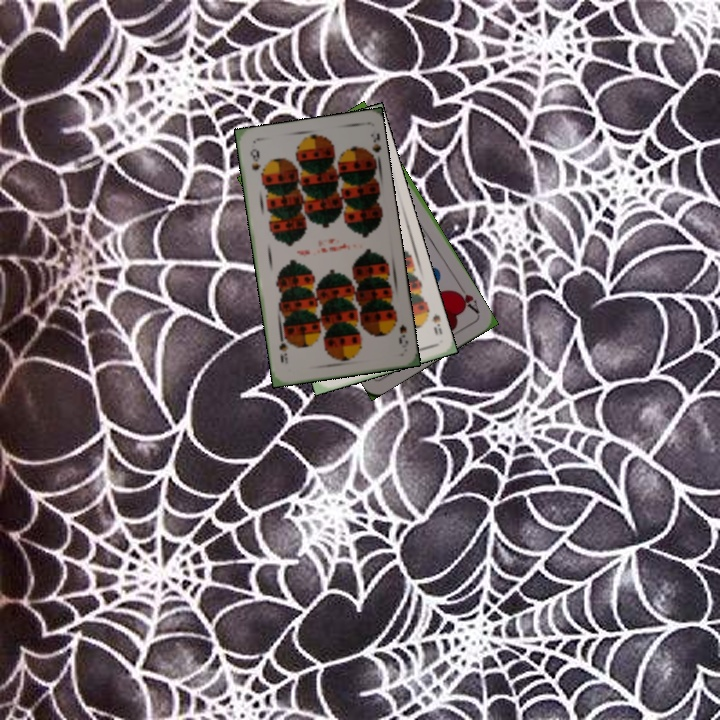HA: (450, 281, 482, 317)
S9: (420, 302, 445, 337), (389, 311, 409, 346), (246, 144, 263, 173)
